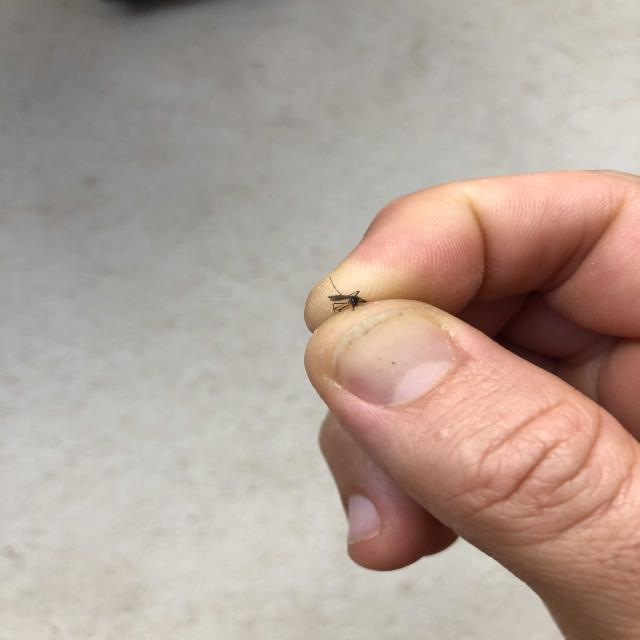albopictus: (308, 275, 379, 324)
